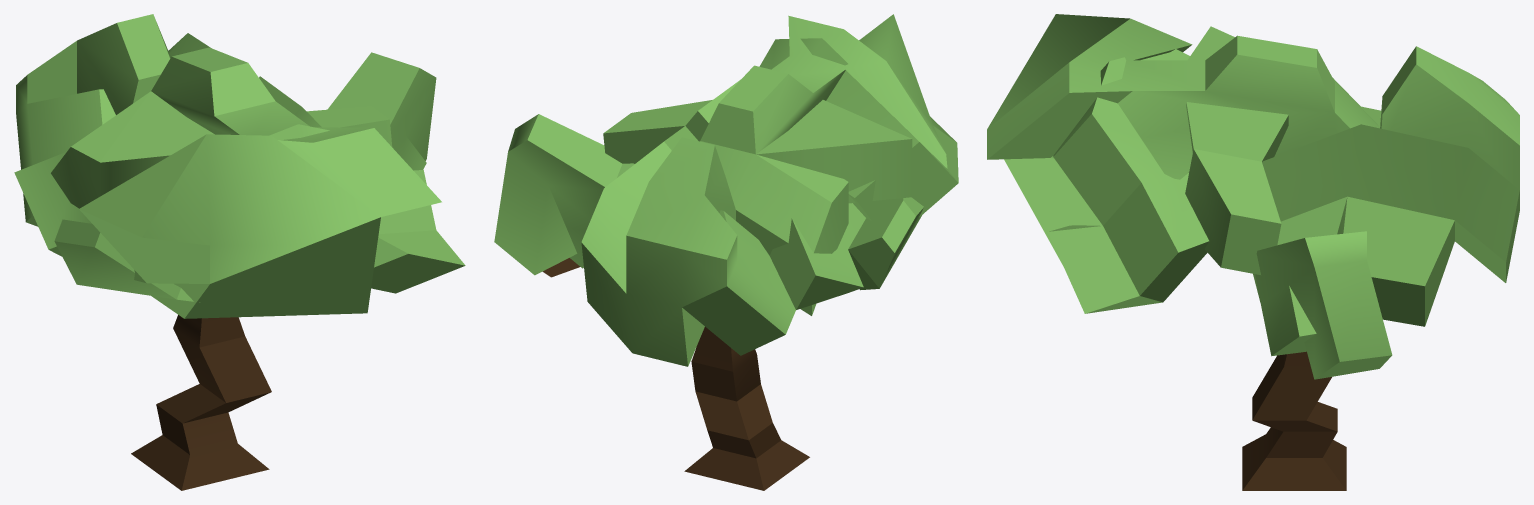
Rendered from Tree3.fbx.
3 views of the same model, side by side, from view 1: azimuth 30°, elevation 25°; view 2: azimuth 150°, elevation 25°; view 3: azimuth 270°, elevation 25° (orthographic). The views are drawn at different scales.
Parts seen in each view (by area): view 1: Leaves3, TreeTrunk3; view 2: Leaves3, TreeTrunk3; view 3: Leaves3, TreeTrunk3.
Boxes of the visible parts, <box> form: Leaves3: <box>14,14,465,318</box>; TreeTrunk3: <box>131,315,271,490</box>; Leaves3: <box>494,14,958,366</box>; TreeTrunk3: <box>542,258,809,490</box>; Leaves3: <box>987,14,1519,379</box>; TreeTrunk3: <box>1242,351,1346,490</box>.
Bounding box in the file's own units: 1044 × 1003 × 1120.
